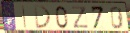0: (110, 5, 124, 30), (55, 6, 69, 30)
7: (91, 5, 105, 30)
D: (33, 5, 53, 30)
I: (22, 5, 28, 30)
Z: (71, 6, 90, 29)
